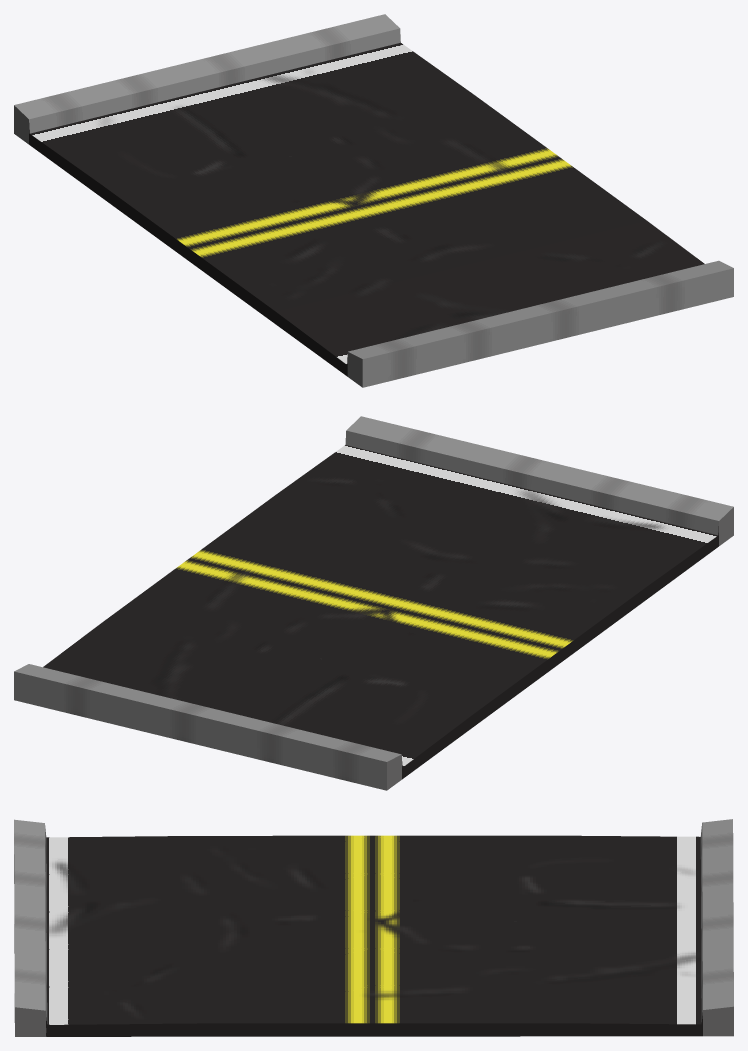
The model's file is Road fill.glb.
The picture shows the model from 3 angles, top to bottom: view 1: azimuth 30°, elevation 25°; view 2: azimuth 150°, elevation 25°; view 3: azimuth 270°, elevation 25°; orthographic projection. The views are drawn at different scales.
Parts seen in each view (by area): view 1: Road model Cross; view 2: Road model Cross; view 3: Road model Cross.
Boxes of the visible parts, <box> form: Road model Cross: <box>14,14,733,387</box>; Road model Cross: <box>14,416,733,790</box>; Road model Cross: <box>14,819,733,1036</box>.
Size of the model in its own units: 1.24 by 0.091 by 2.
Materials: 1 (1 with a texture image).
